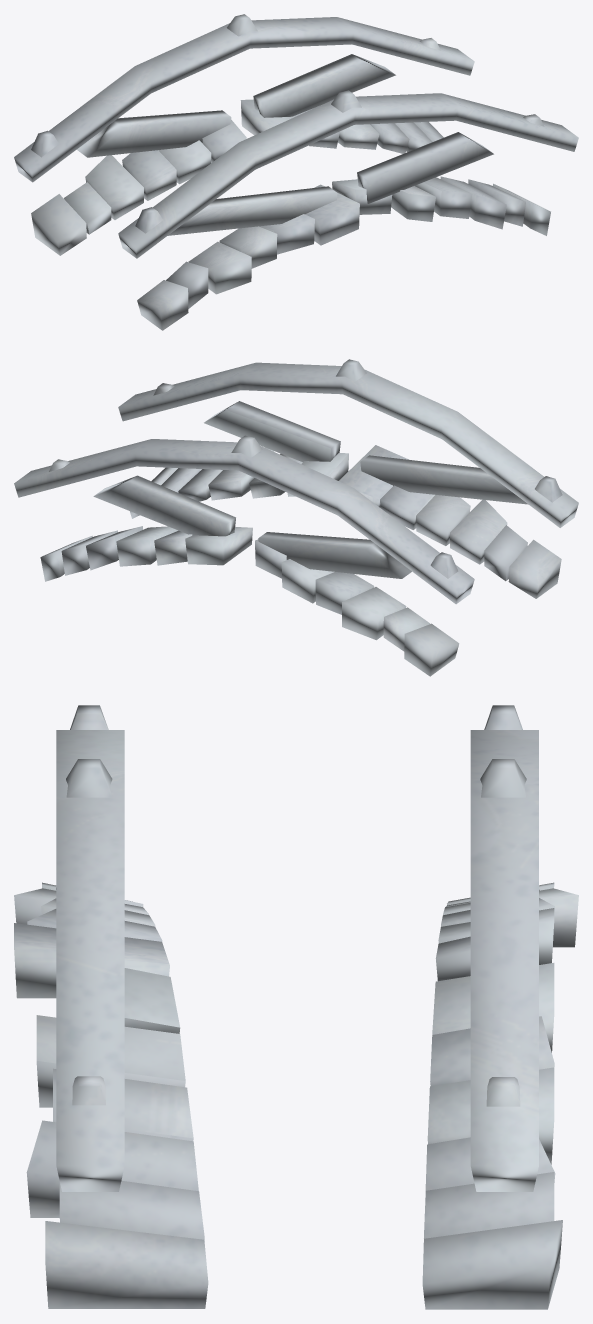
The model's file is Bridge_2_Snow.fbx.
3 views of the same model, one above another, from view 1: azimuth 30°, elevation 25°; view 2: azimuth 150°, elevation 25°; view 3: azimuth 270°, elevation 25° (orthographic). The views are drawn at different scales.
Visible parts, largest first — view 1: Bridge_2_Snow; view 2: Bridge_2_Snow; view 3: Bridge_2_Snow.
Part boxes in pixels (box(x1,y1,x2,y2)): Bridge_2_Snow: box(14, 14, 578, 330); Bridge_2_Snow: box(14, 359, 578, 676); Bridge_2_Snow: box(14, 705, 578, 1309).
Bounding box in the file's own units: 426 × 167 × 236.
